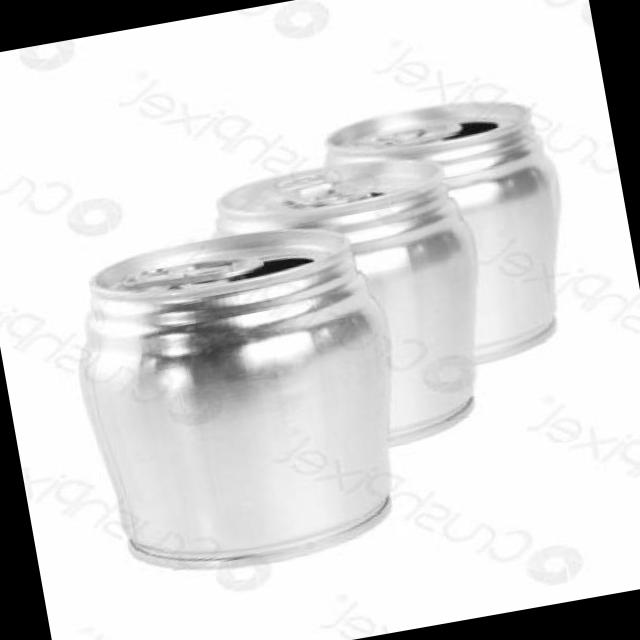Kaleng: (59, 208, 428, 588), (205, 139, 510, 470), (318, 83, 590, 384)
